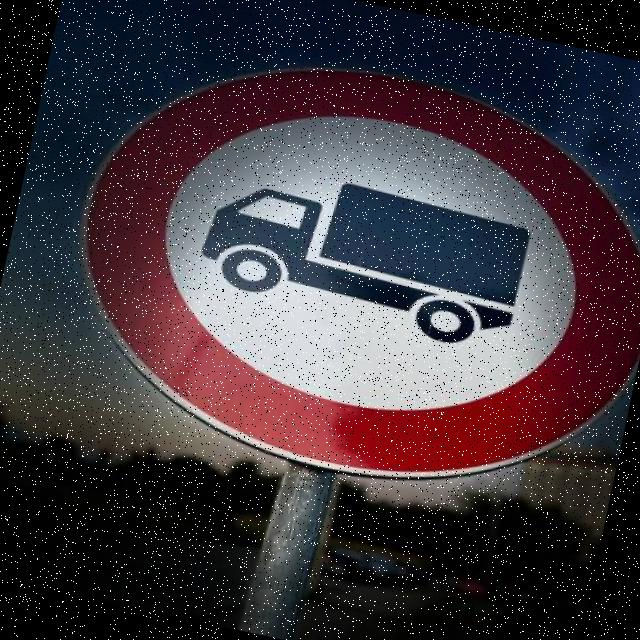do_not_enter: (27, 0, 640, 534)
